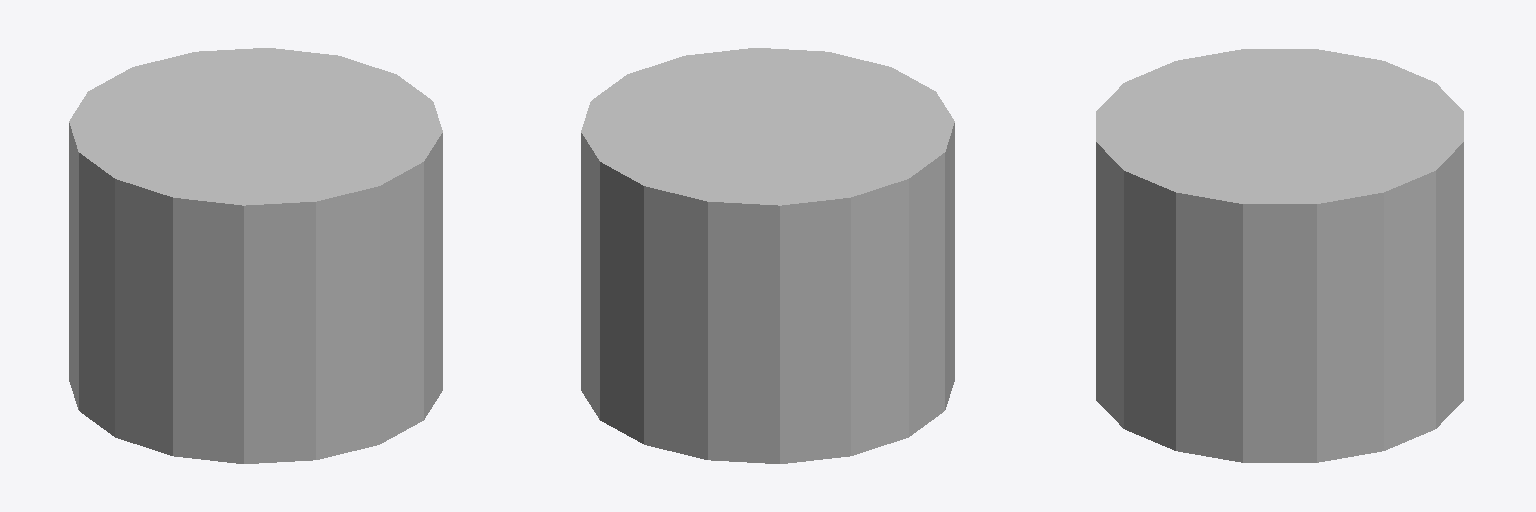
The model's file is Arrow_Engine_A_Collider.obj.
3 renders of one model, left to right at view 1: azimuth 30°, elevation 25°; view 2: azimuth 150°, elevation 25°; view 3: azimuth 270°, elevation 25°, orthographic.
Parts seen in each view (by area): view 1: Arrow_Engine_A_Collider; view 2: Arrow_Engine_A_Collider; view 3: Arrow_Engine_A_Collider.
Boxes of the visible parts, x1,y1,x2,y2 form: Arrow_Engine_A_Collider: [69, 48, 442, 463]; Arrow_Engine_A_Collider: [581, 48, 954, 463]; Arrow_Engine_A_Collider: [1096, 49, 1463, 462].
Size of the model in its own units: 1.25 by 0.971 by 1.25.